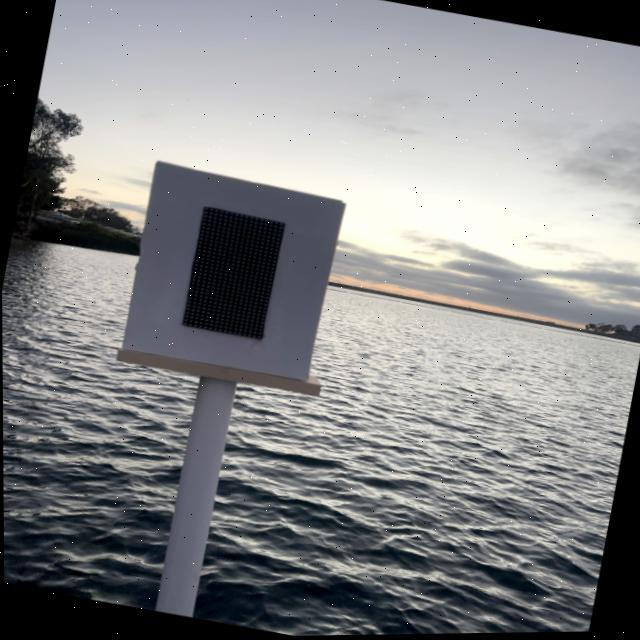led: (128, 167, 335, 385)
